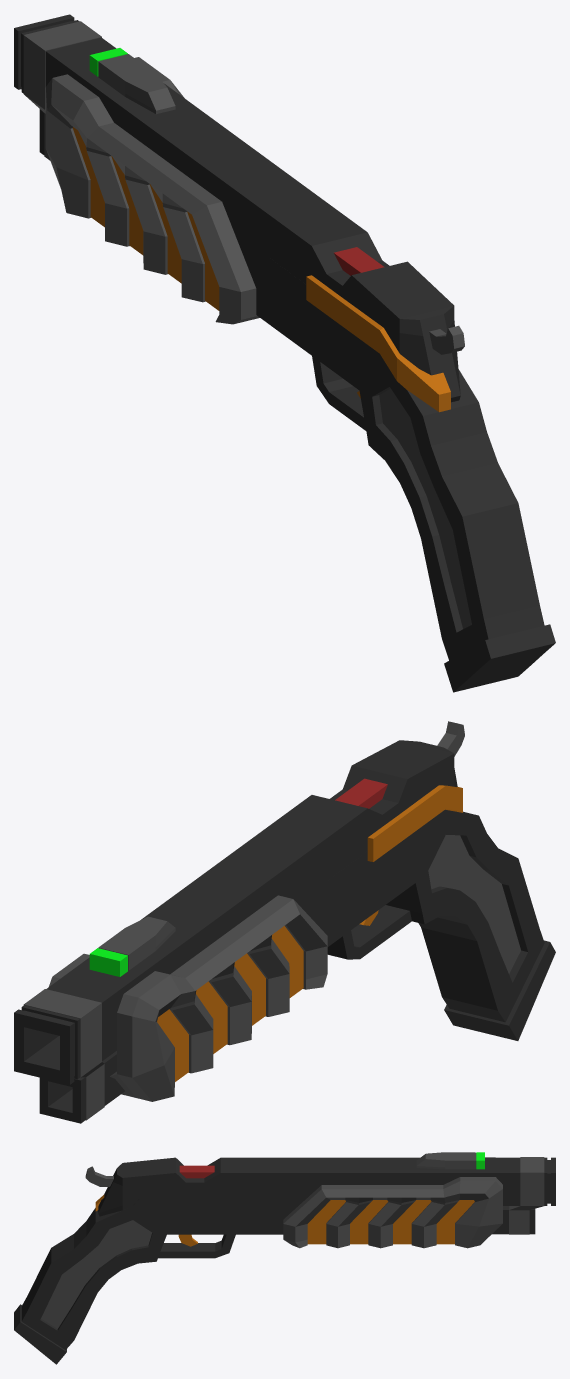
The model's file is ShotGun.fbx.
3 renders of one model, top to bottom at view 1: azimuth 30°, elevation 25°; view 2: azimuth 150°, elevation 25°; view 3: azimuth 270°, elevation 25°, orthographic. The views are drawn at different scales.
Visible parts, largest first — view 1: Vert.009, Vert.007; view 2: Vert.009, Vert.007, Vert.002; view 3: Vert.009, Vert.007, Vert.002.
Part boxes in pixels (<box>): Vert.009: <box>14,14,555,692</box>; Vert.007: <box>45,57,259,324</box>; Vert.009: <box>14,740,555,1123</box>; Vert.007: <box>49,895,327,1101</box>; Vert.002: <box>437,721,464,756</box>; Vert.009: <box>14,1152,555,1364</box>; Vert.007: <box>283,1157,502,1248</box>; Vert.002: <box>85,1166,113,1186</box>.
Bounding box in the file's own units: 45.35 × 142 × 350.
